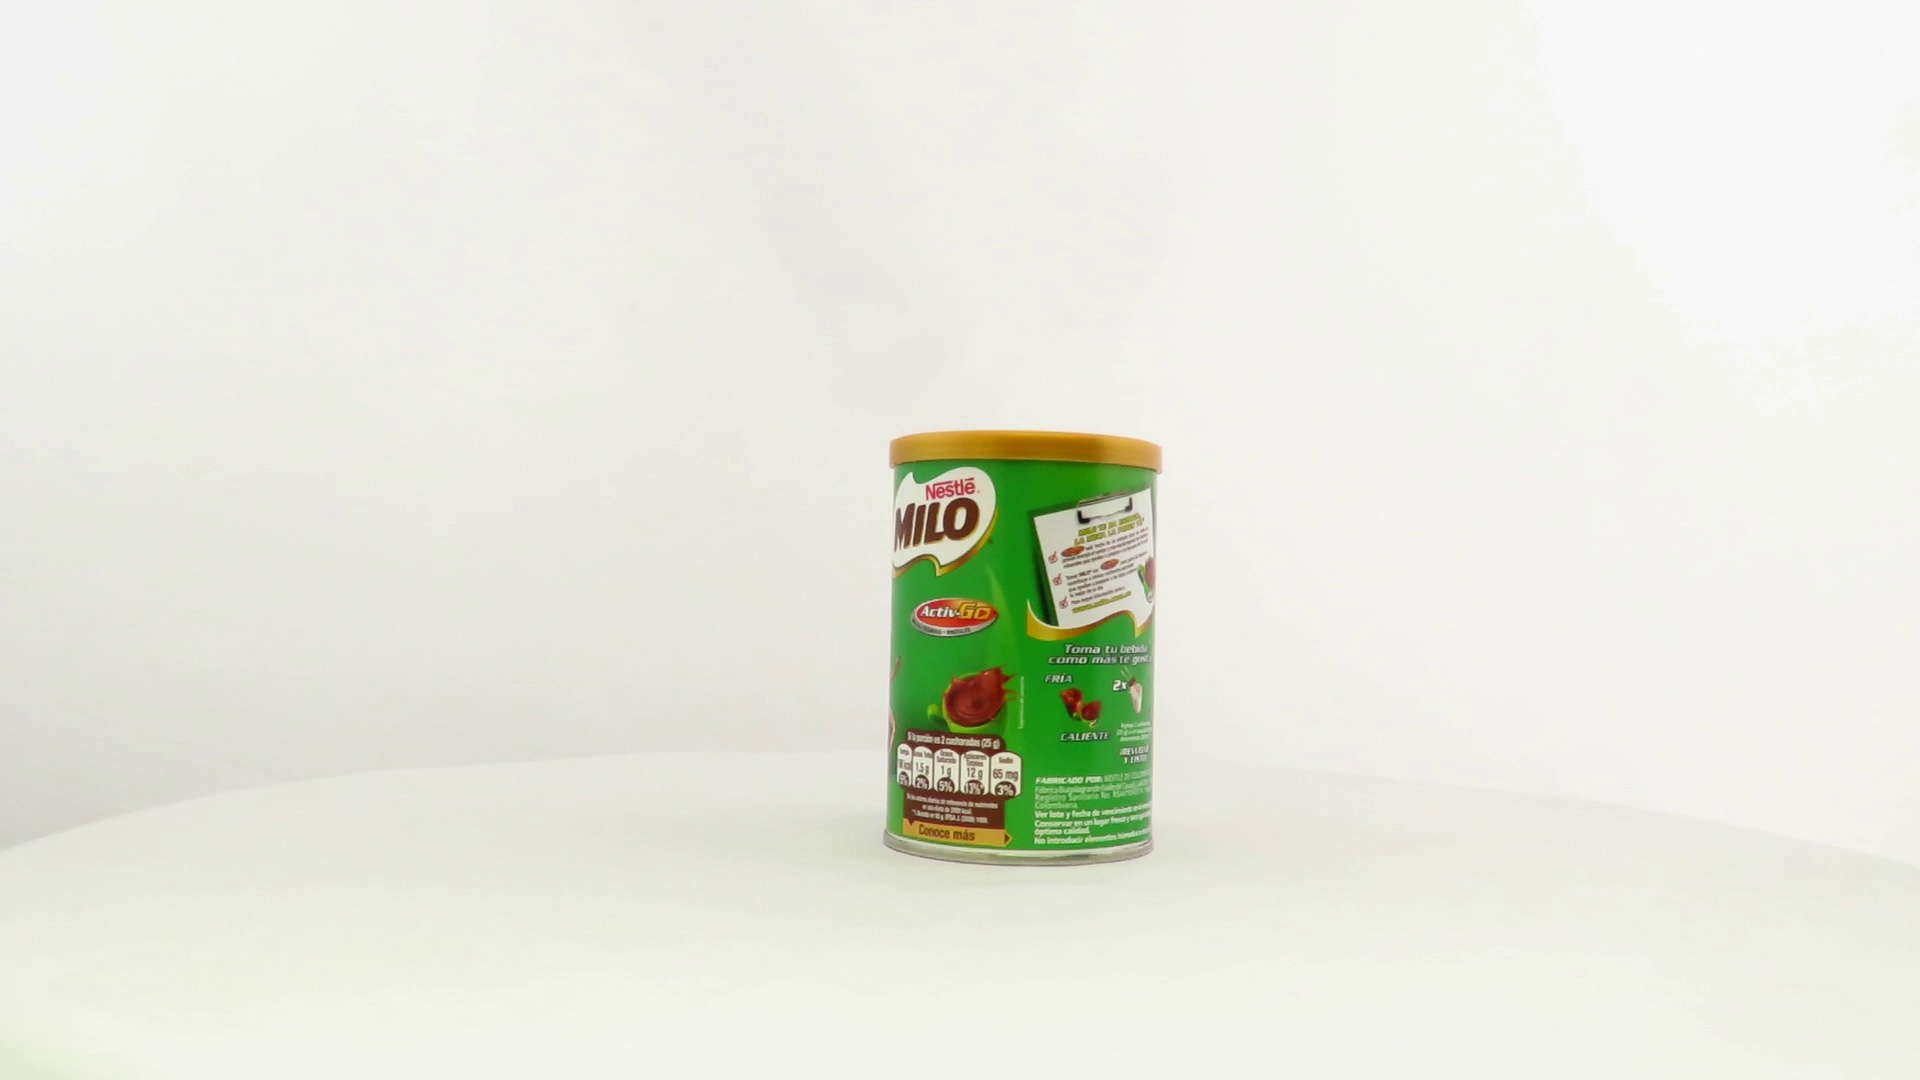COL0170203LAT20000: (877, 425, 1168, 873)
